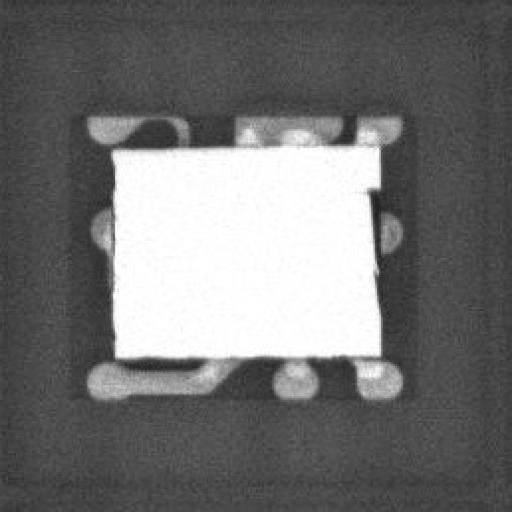DIE_BROKEN: (363, 184, 377, 319), (107, 148, 117, 294)
